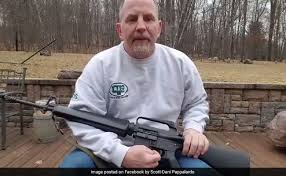rifle: (5, 94, 252, 168)
